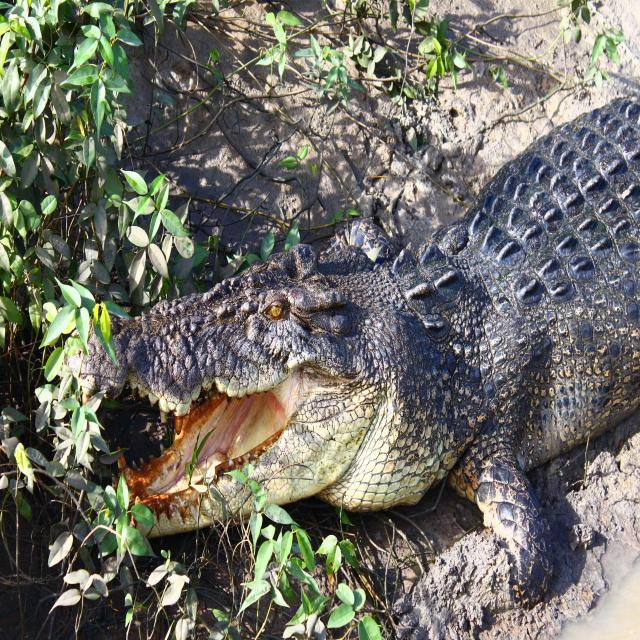crocodile: (73, 94, 640, 617)
